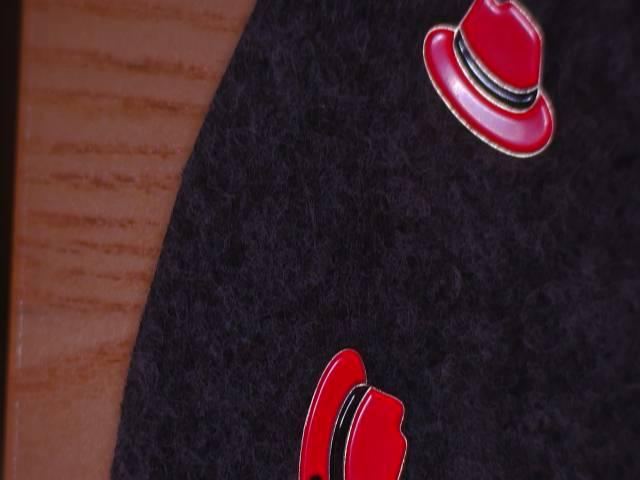Red-Hat: (379, 0, 572, 177), (275, 328, 419, 480)
